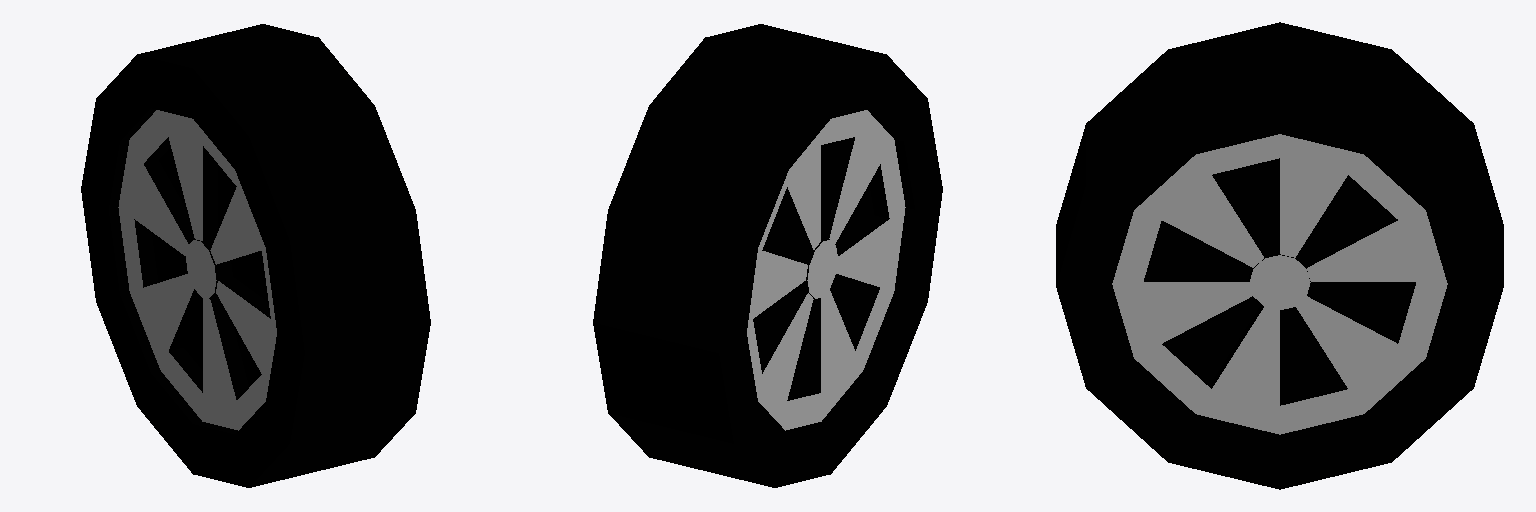
The model's file is Llanta1Carro_obj.obj.
3 views of the same model, side by side, from view 1: azimuth 30°, elevation 25°; view 2: azimuth 150°, elevation 25°; view 3: azimuth 270°, elevation 25° (orthographic).
Visible parts, largest first — view 1: Llanta_1; view 2: Llanta_1; view 3: Llanta_1.
Boxes of the visible parts, box(x1,y1,x2,y2) form: Llanta_1: box(81, 24, 430, 487); Llanta_1: box(593, 24, 942, 487); Llanta_1: box(1056, 22, 1503, 489).
Size of the model in its own units: 5.12 by 15.75 by 15.75.